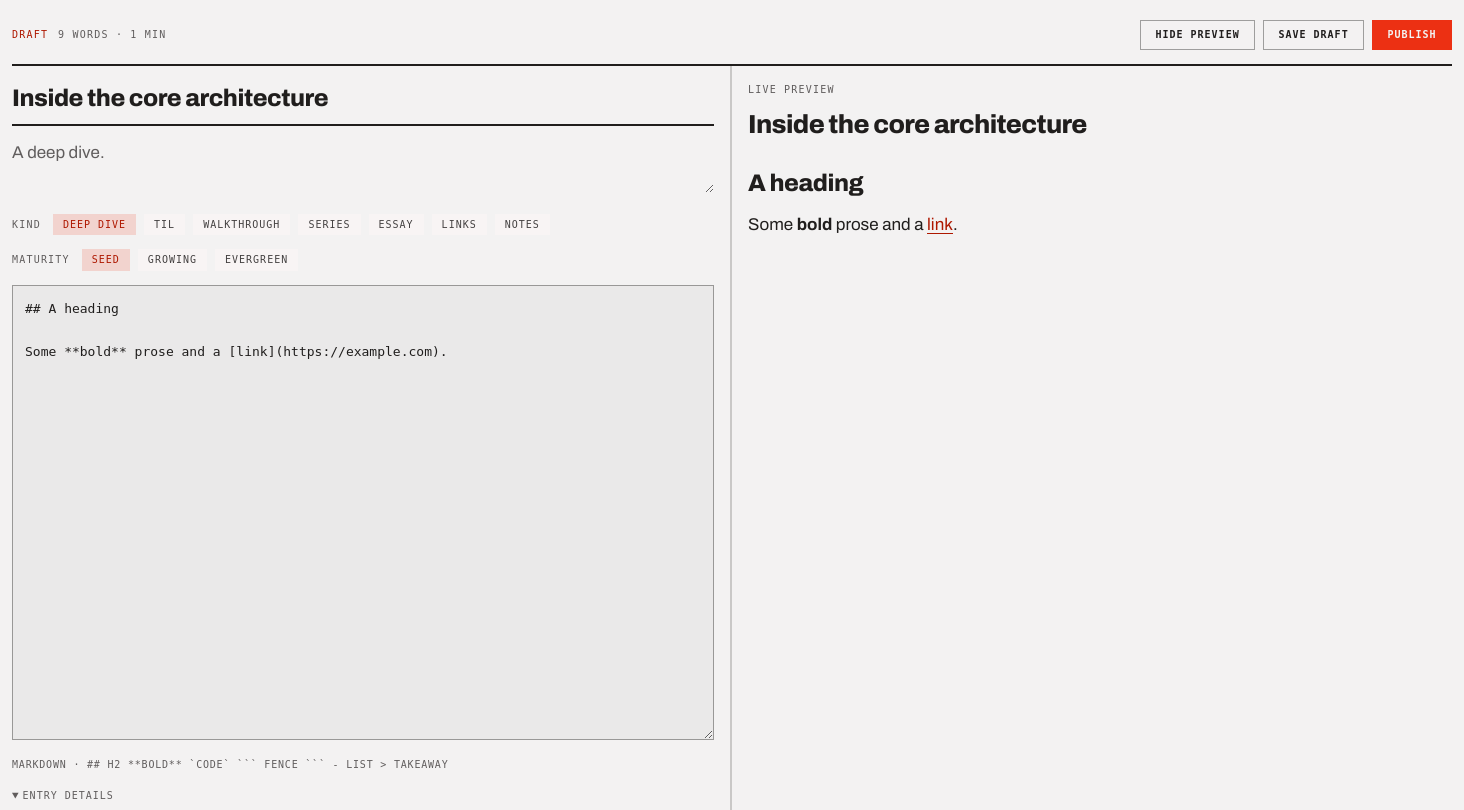
PostEditor preview › keeps edits when the preview is closed again
Replace the text in the text box named "Body" with "rewritten". click: (363, 512)
box: x1=12 y1=285 x2=714 y2=740
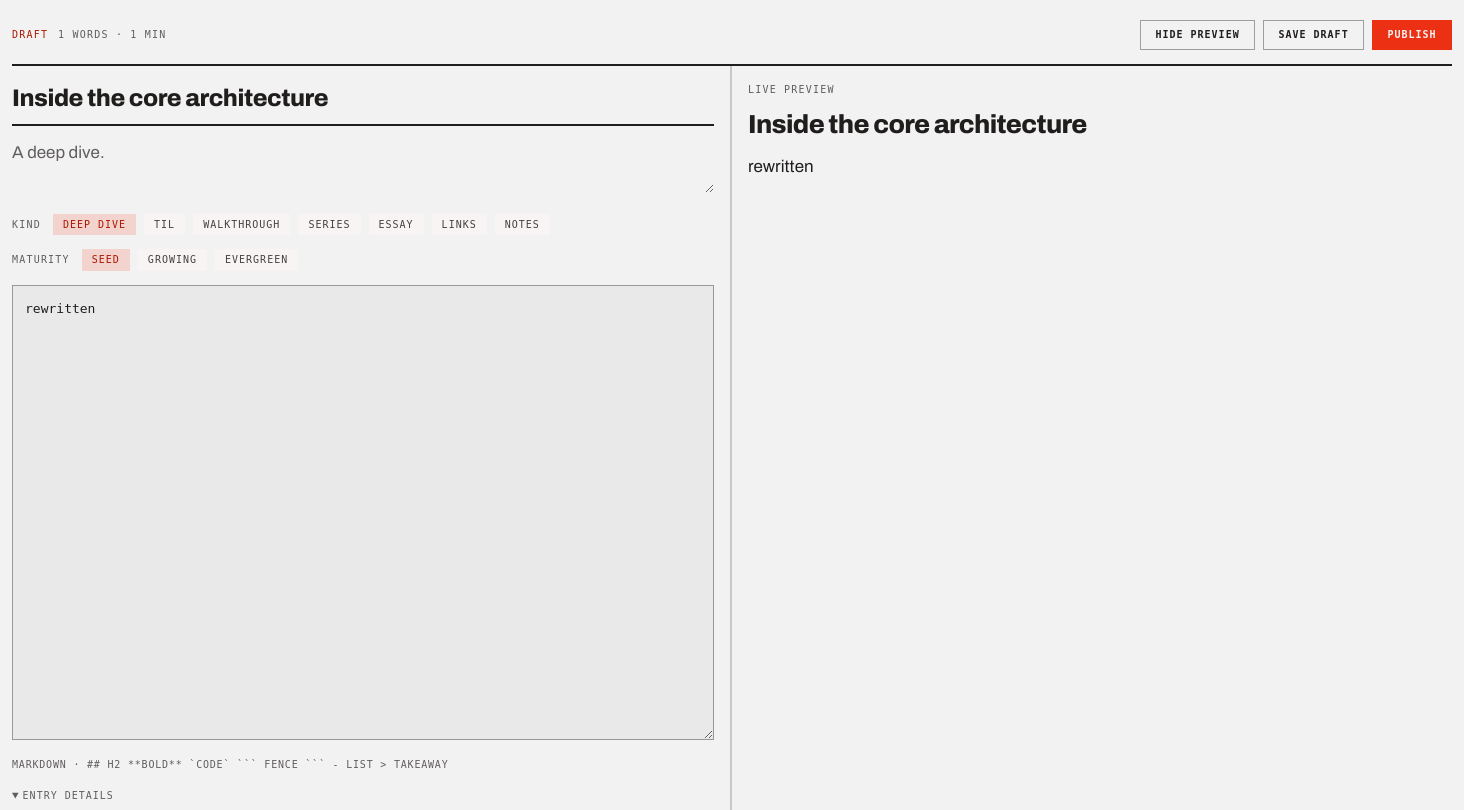
Click the button "Hide preview". click: (1198, 35)
box: x1=1140 y1=20 x2=1255 y2=50
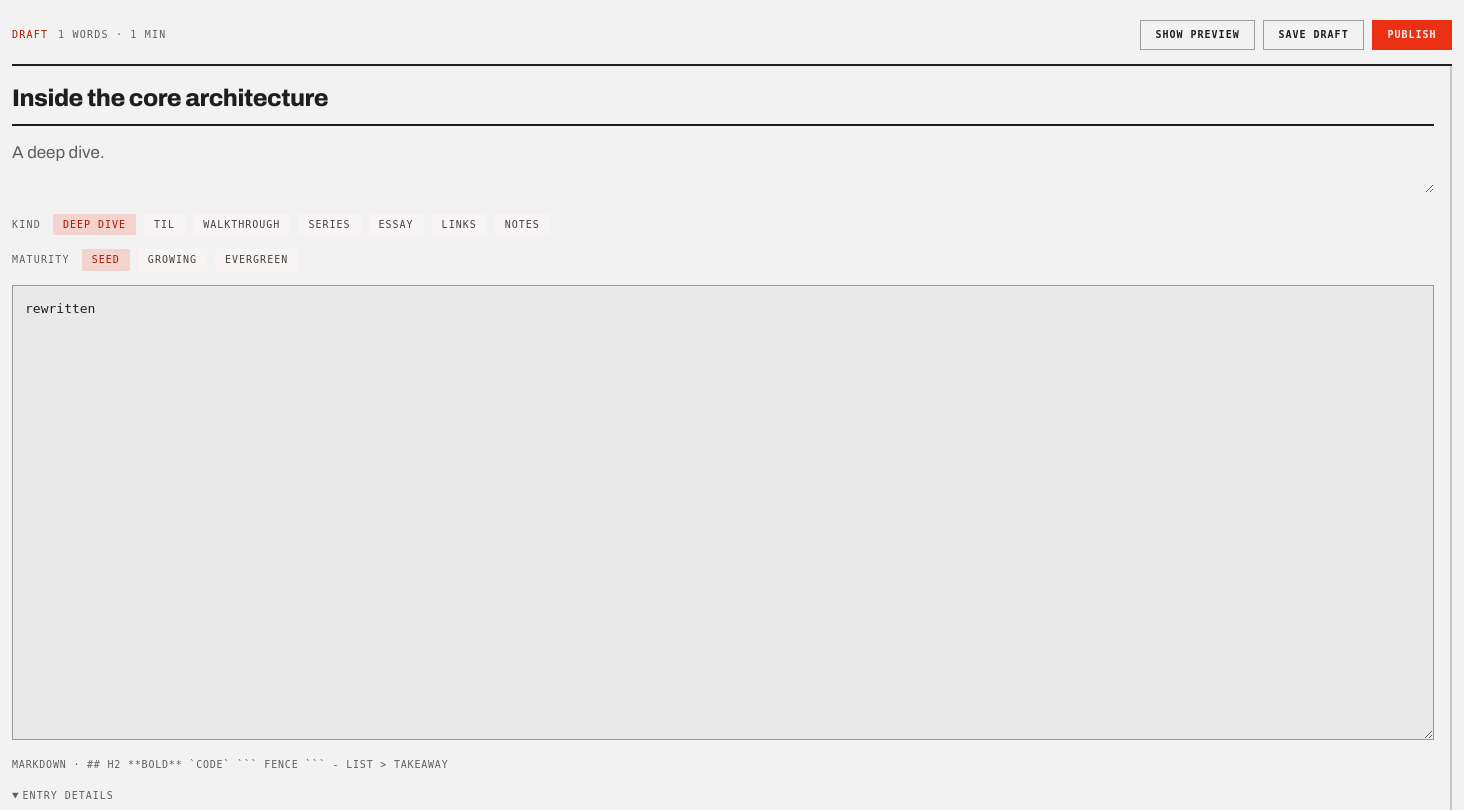
Result: the text "Live preview" is gone
